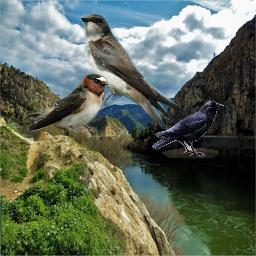Crow: (152, 101, 224, 158)
Swallow: (80, 13, 185, 129), (25, 71, 111, 134)
